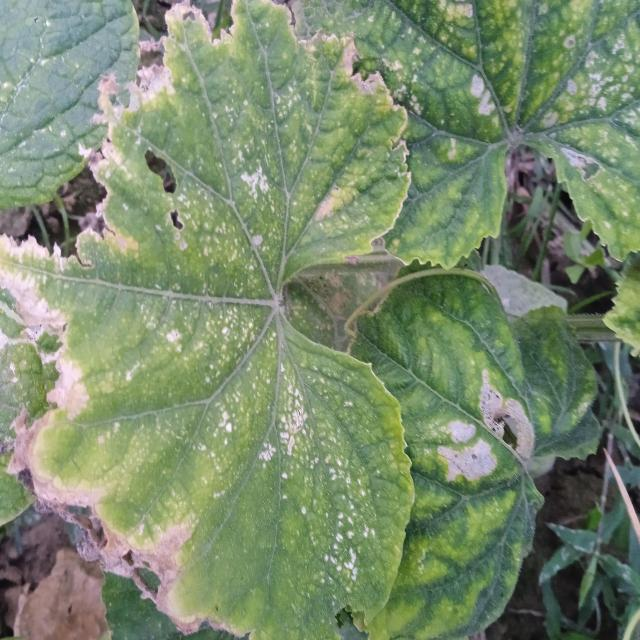cucumber_anthracnose: (29, 8, 405, 635), (409, 310, 572, 623)
